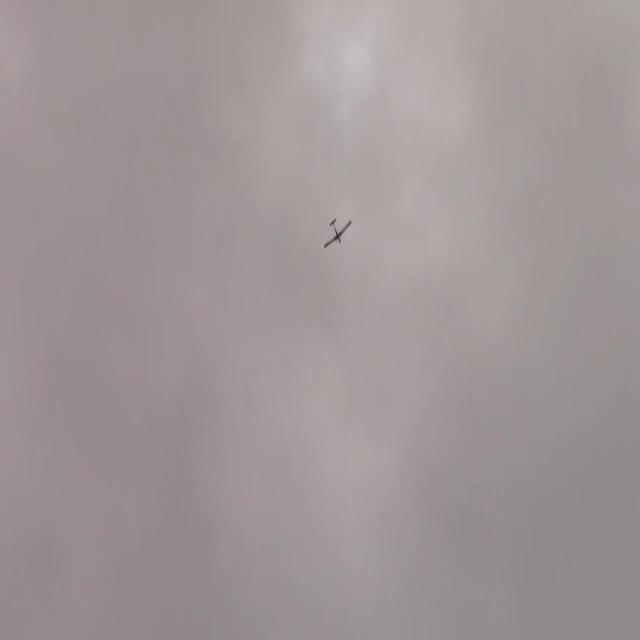iha: (324, 216, 354, 252)
